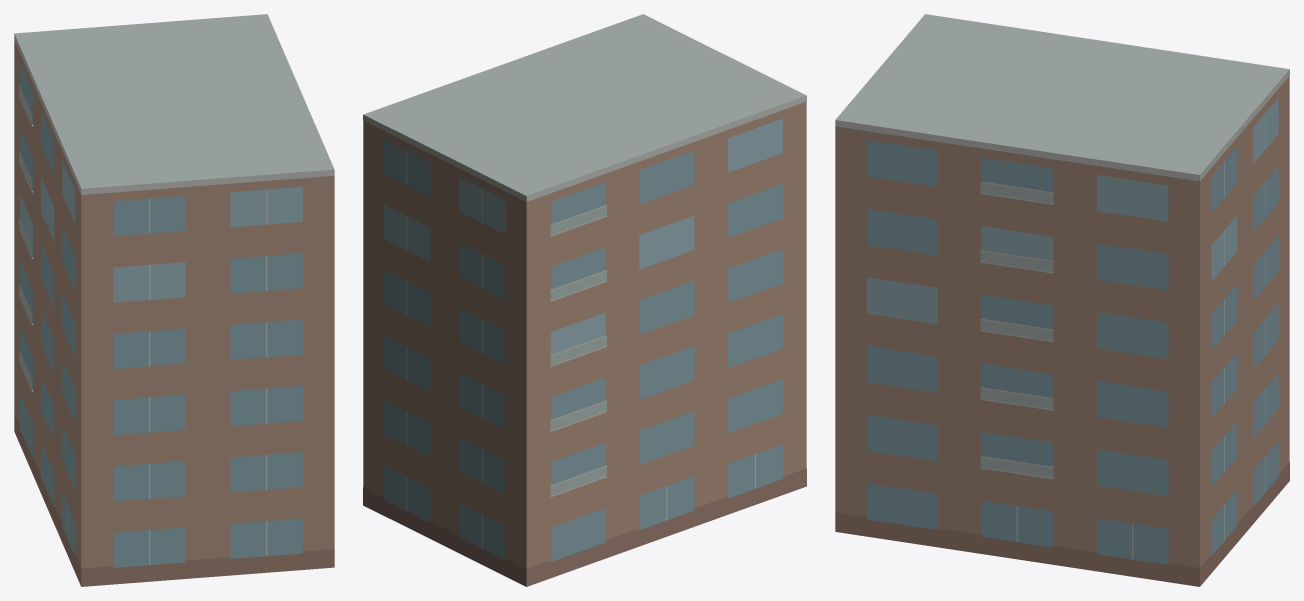
Rendered from survey-upis-32854264.glb.
3 views of the same model, side by side, from view 1: azimuth 30°, elevation 25°; view 2: azimuth 150°, elevation 25°; view 3: azimuth 270°, elevation 25° (orthographic). The views are drawn at different scales.
Visible parts, largest first — view 1: survey-upis-32854264.tmp; view 2: survey-upis-32854264.tmp; view 3: survey-upis-32854264.tmp.
Boxes of the visible parts, x1,y1,x2,y2 form: survey-upis-32854264.tmp: (14,14,334,586); survey-upis-32854264.tmp: (363,14,806,586); survey-upis-32854264.tmp: (835,14,1289,586).
Bounding box in the file's own units: 13.26 × 15.8 × 15.81.
